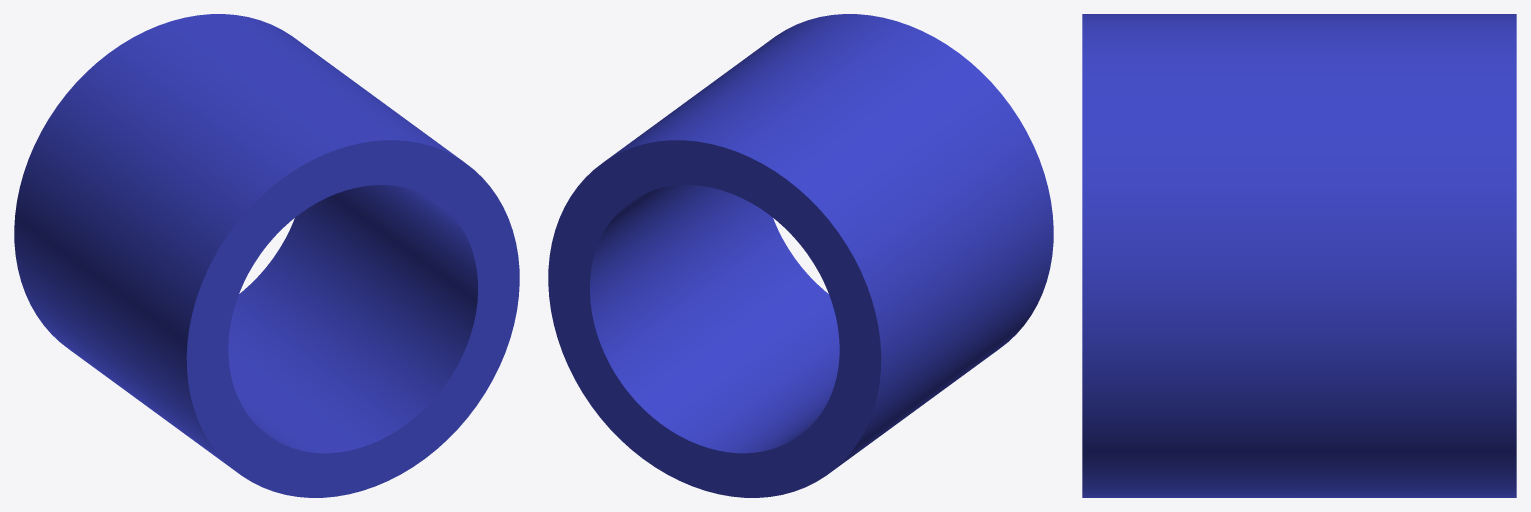
File: Barrel.fbx
3 views of the same model, side by side, from view 1: azimuth 30°, elevation 25°; view 2: azimuth 150°, elevation 25°; view 3: azimuth 270°, elevation 25° (orthographic). The views are drawn at different scales.
Visible parts, largest first — view 1: root; view 2: root; view 3: root.
Boxes of the visible parts, x1,y1,x2,y2 form: root: (14,14,519,497); root: (548,14,1053,497); root: (1082,14,1516,497).
Size of the model in its own units: 4.46 by 4.46 by 4.
